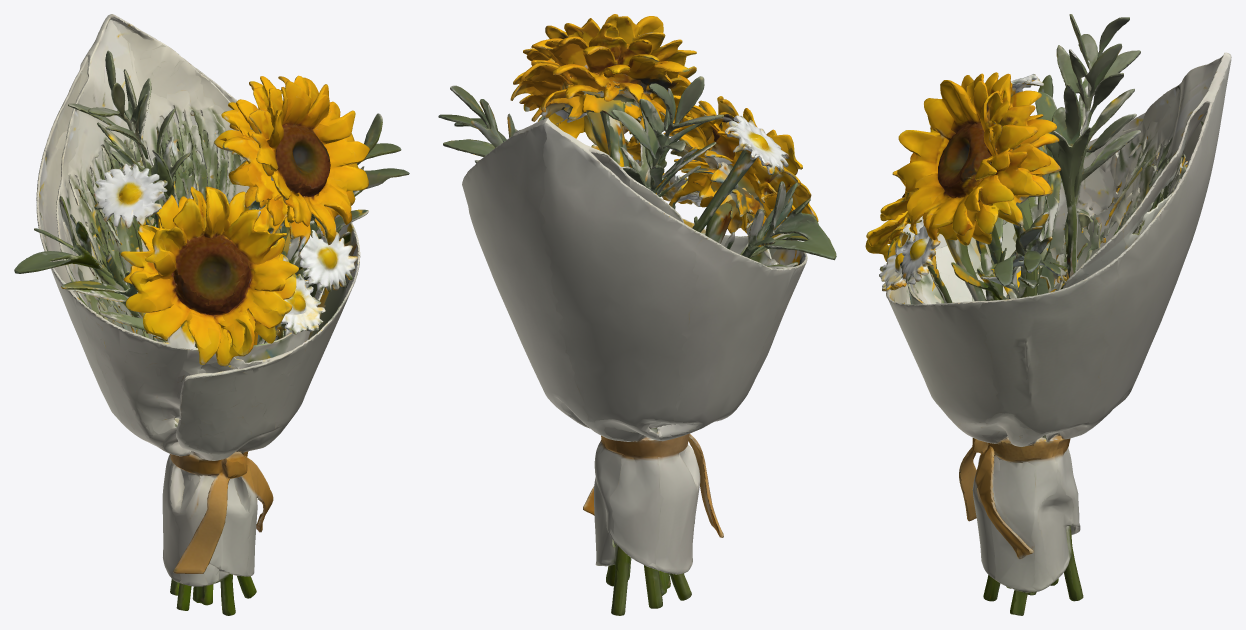
File: sunshine-note.glb
The picture shows the model from 3 angles, left to right: view 1: azimuth 30°, elevation 25°; view 2: azimuth 150°, elevation 25°; view 3: azimuth 270°, elevation 25°; orthographic projection. The views are drawn at different scales.
Parts seen in each view (by area): view 1: sunshine-note; view 2: sunshine-note; view 3: sunshine-note.
Part boxes in pixels (x1,y1,x2,y2): sunshine-note: (14,14,409,615); sunshine-note: (438,14,836,615); sunshine-note: (865,14,1231,615).
Size of the model in its own units: 0.4129 by 0.55 by 0.3293.
1 material, 1 textured.
